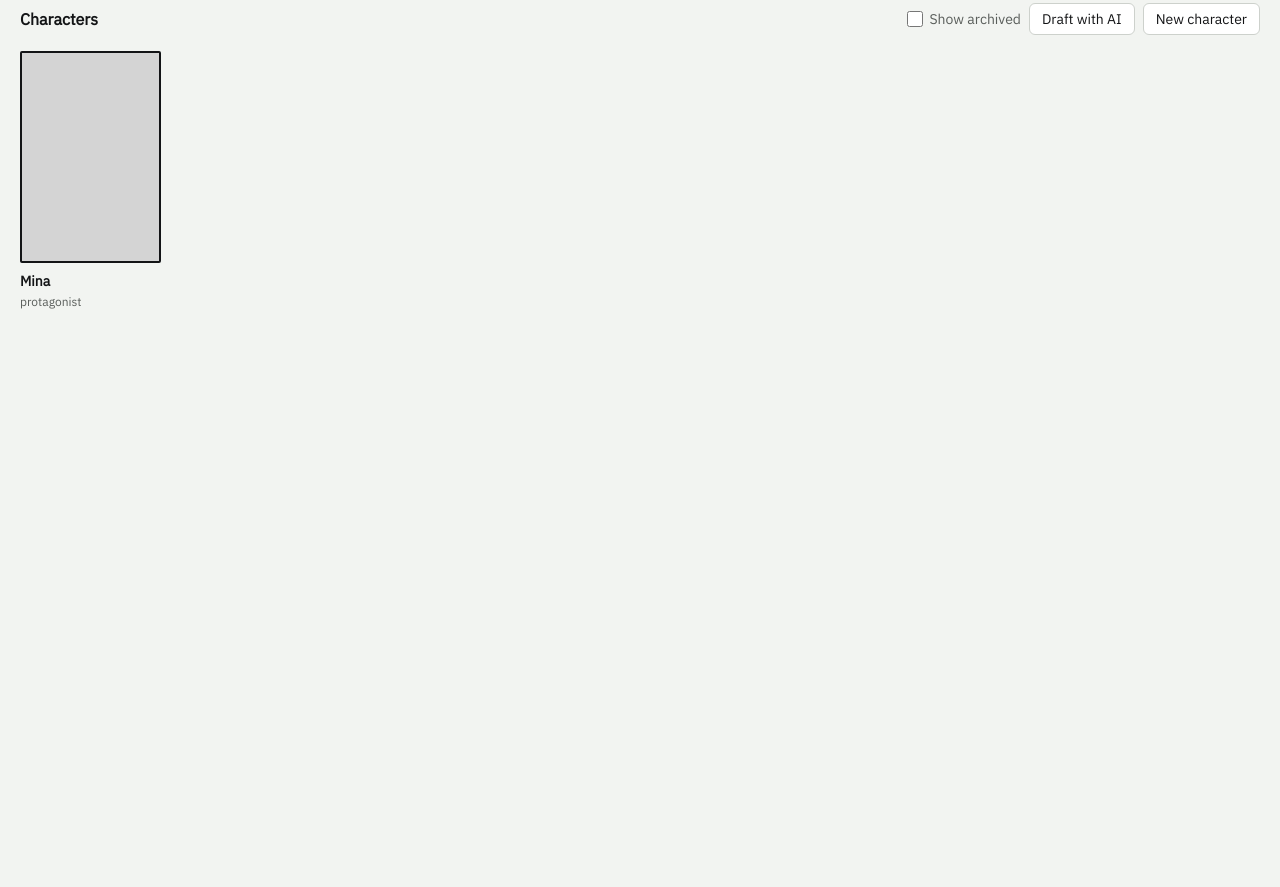
Scenario: CharacterStudio › variations › shows an image or a status badge on each card, and the right actions
The image size is (1280, 887).
What coordinates should you click on to do the following:
click the text "Mina"
I would click on:
 (35, 280)
Its box is [20,272,50,290].
(page scrolled)
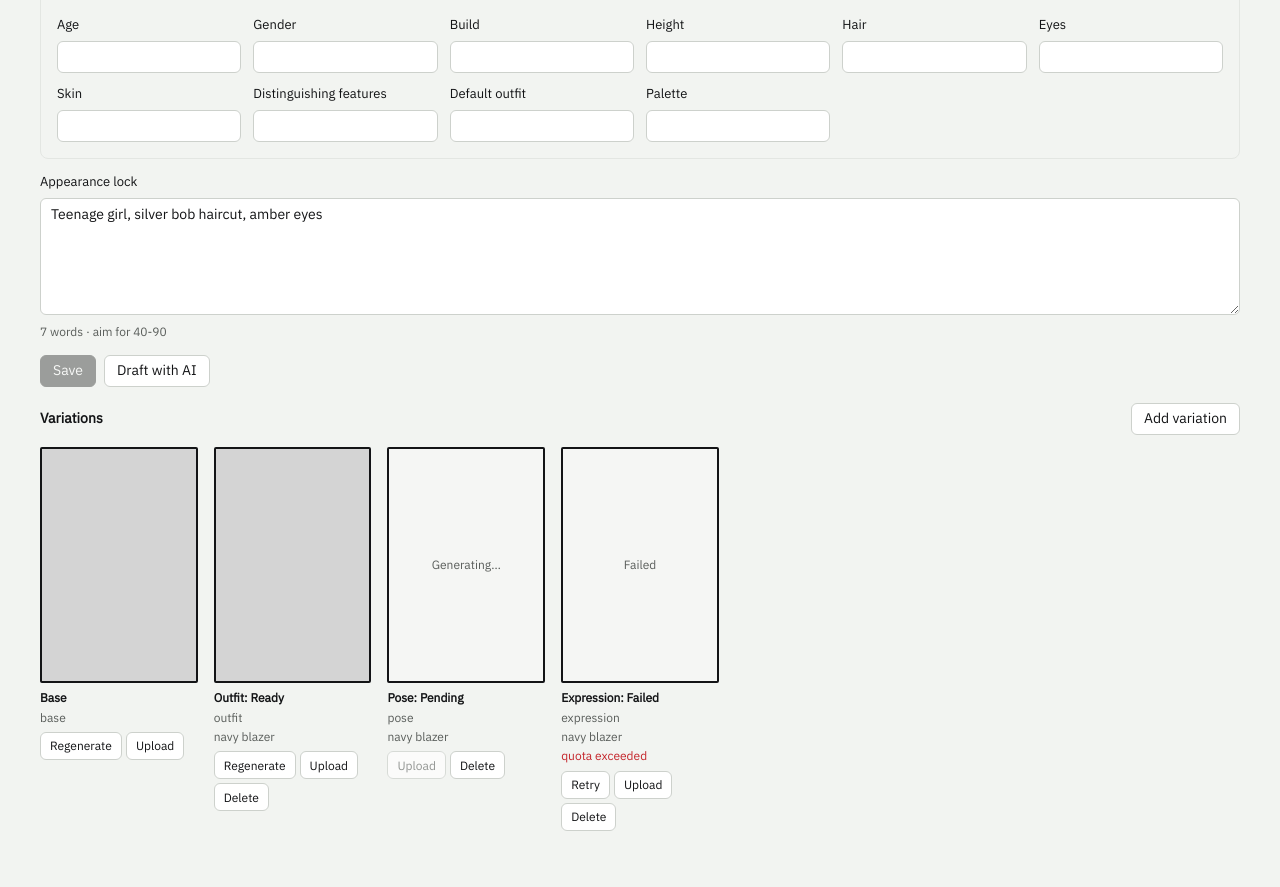
Check: the text "Base" is shown, box [40,690,67,705]
Check: the 1st button "Upload" is shown, box [126,732,184,760]
Check: the 1st button "Regenerate" is shown, box [40,732,122,760]
